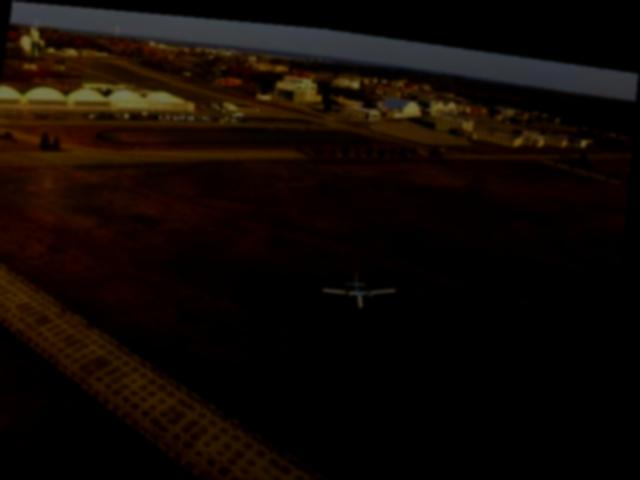uav: (324, 259, 408, 306)
